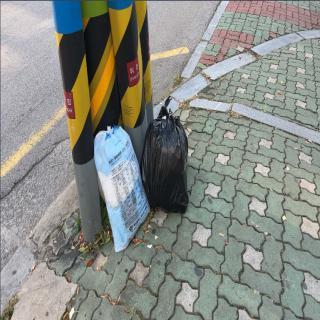Garbage: (93, 121, 152, 246), (141, 106, 189, 213)
